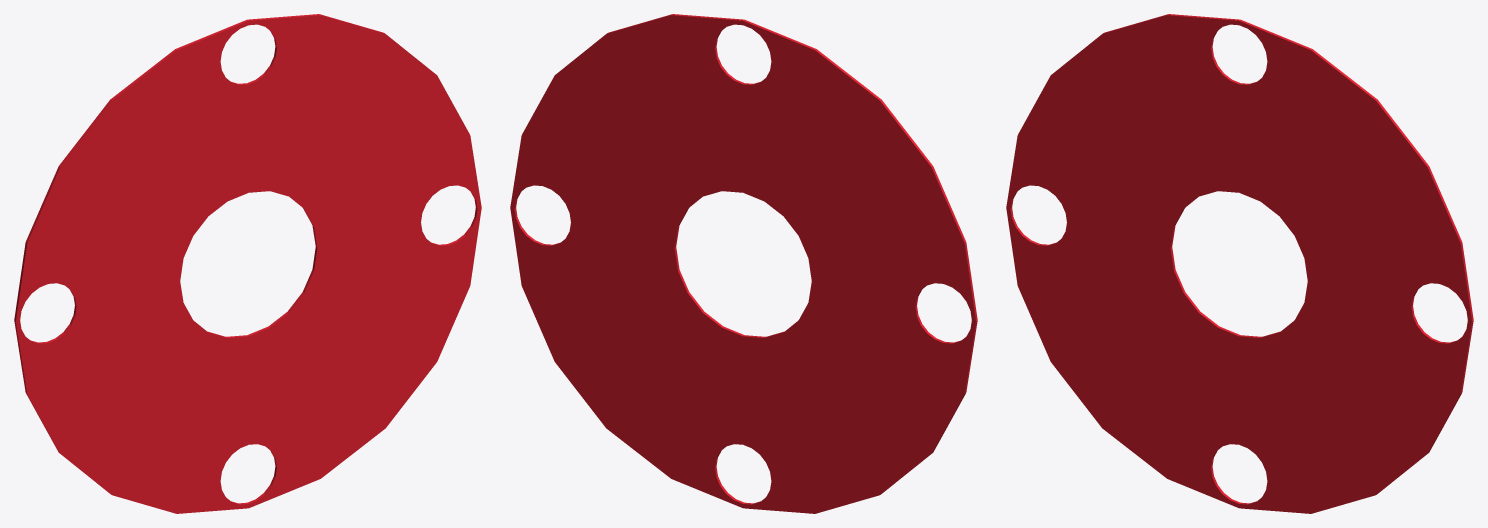
Rendered from tinker.obj.
The picture shows the model from 3 angles, left to right: view 1: azimuth 30°, elevation 25°; view 2: azimuth 150°, elevation 25°; view 3: azimuth 330°, elevation 25°; orthographic projection.
Visible parts, largest first — view 1: obj_0; view 2: obj_0; view 3: obj_0.
Boxes of the visible parts, x1,y1,x2,y2 form: obj_0: (14, 14, 481, 513); obj_0: (510, 14, 977, 513); obj_0: (1006, 14, 1473, 513).
Bounding box in the file's own units: 163 × 163 × 1.
